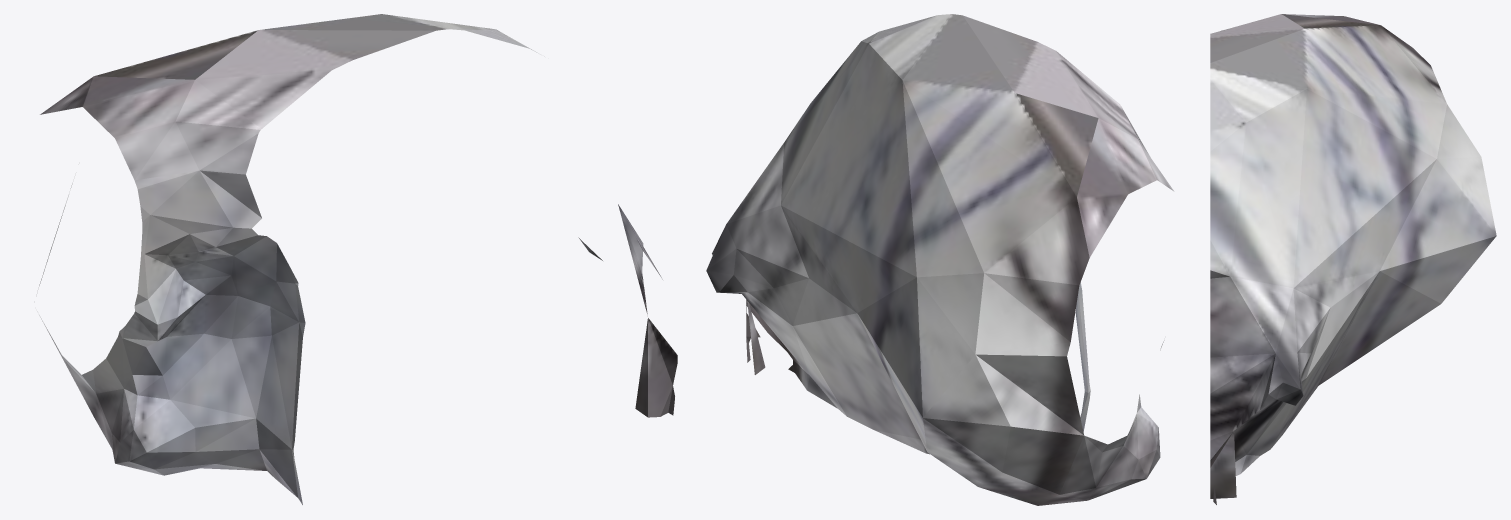
The picture shows the model from 3 angles, left to right: view 1: azimuth 30°, elevation 25°; view 2: azimuth 150°, elevation 25°; view 3: azimuth 270°, elevation 25°; orthographic projection. The views are drawn at different scales.
Size of the model in its own units: 2.84 by 2.34 by 1.73.
1 material, 1 textured.
